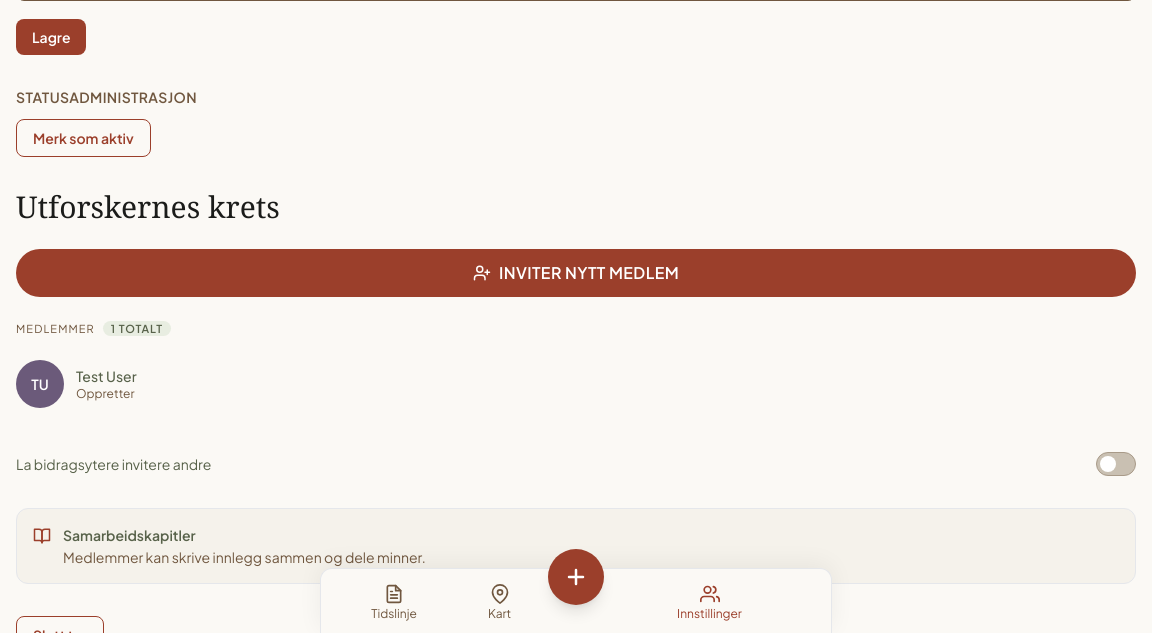
Test: MemberManagement (inside TripSettingsScreen) › adding an existing user by email shows the "Added" confirmation
(page scrolled)
Note: Open the collapsible invite form
Click the button "INVITER NYTT MEDLEM": (576, 273) [16, 249, 1136, 297]
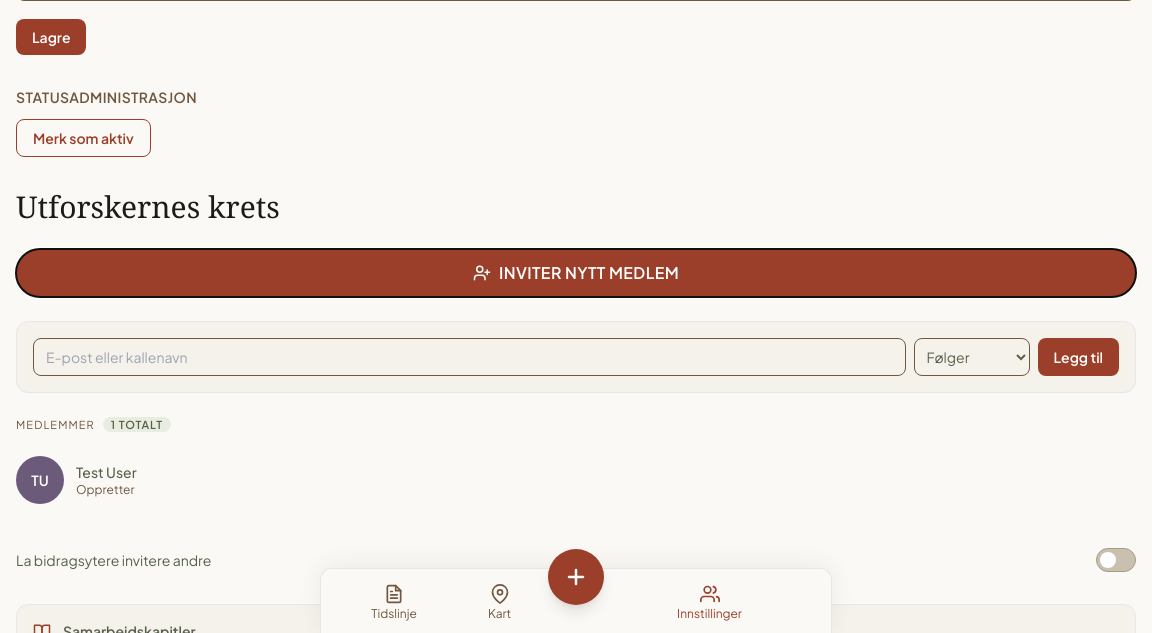
Expected: the field with placeholder "E-post eller kallenavn" is shown
In the field with placeholder "E-post eller kallenavn": (469, 357) [33, 338, 906, 376], type "existing@example.com"
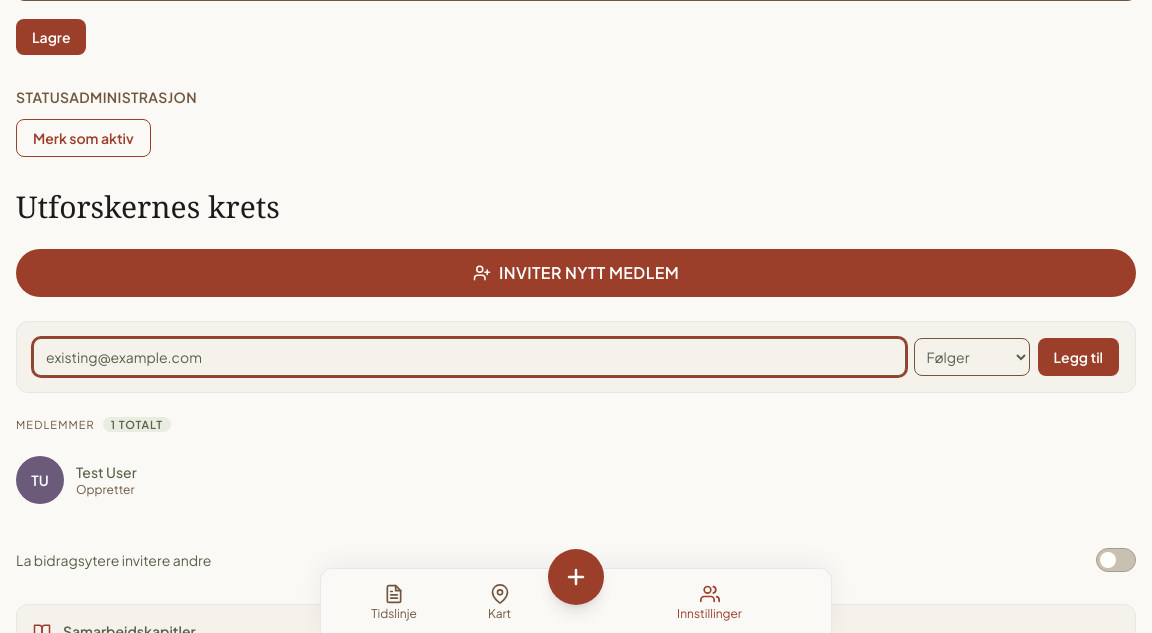
Click the button "Legg til": (1078, 357) [1038, 338, 1119, 376]
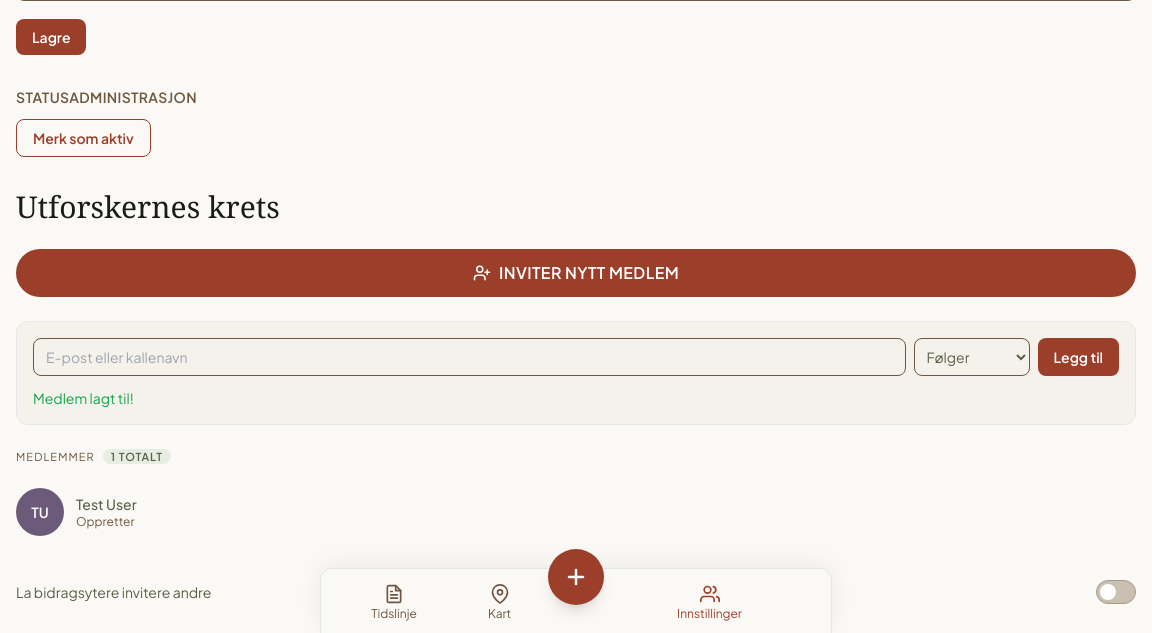
Expected: the text "Medlem lagt til!" is shown, [33, 389, 134, 407]
